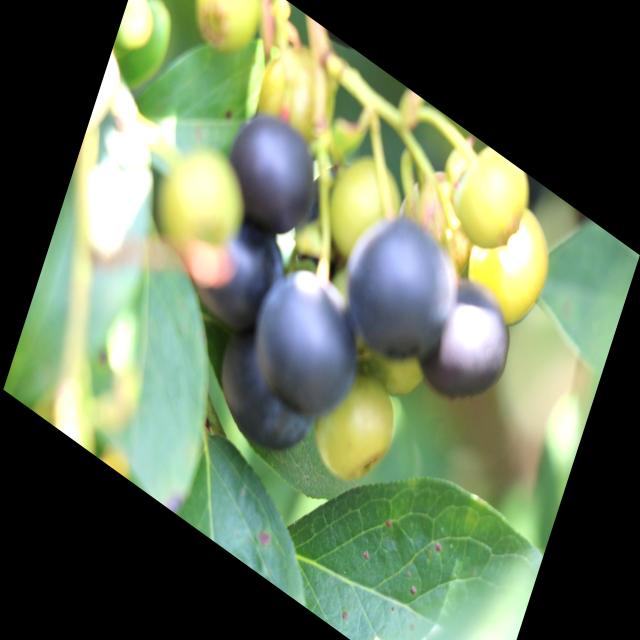blueberry: (237, 241, 373, 435), (335, 187, 468, 380), (195, 311, 334, 478), (217, 94, 335, 255), (184, 195, 295, 354), (421, 262, 524, 428)
blueberry-unripe: (457, 182, 562, 344), (308, 356, 407, 503), (445, 136, 534, 271), (322, 137, 407, 270), (183, 0, 269, 69)
